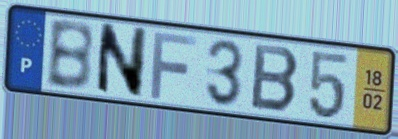3: (203, 38, 246, 109)
5: (306, 48, 350, 121)
B: (248, 41, 303, 116), (44, 19, 96, 94)
F: (148, 28, 199, 102)
N: (94, 20, 150, 101)
